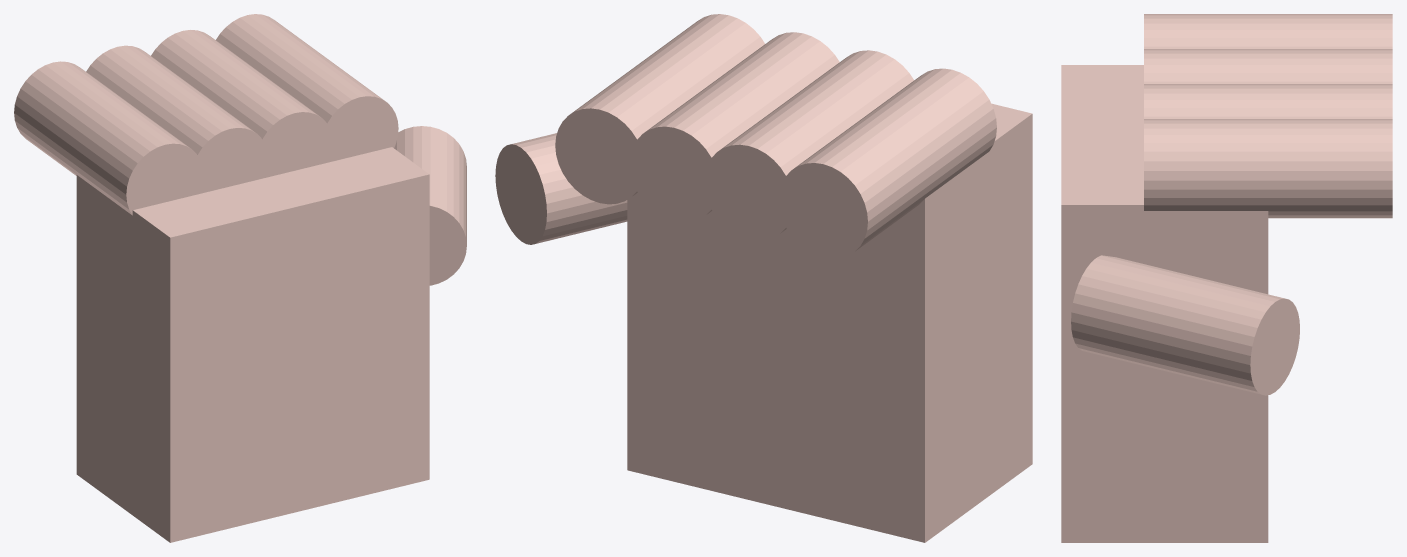
The model's file is letter_A.glb.
3 renders of one model, left to right at view 1: azimuth 30°, elevation 25°; view 2: azimuth 150°, elevation 25°; view 3: azimuth 270°, elevation 25°, orthographic. The views are drawn at different scales.
Visible parts, largest first — view 1: Cube, Cylinder, Cylinder.001, Cylinder.003, Cylinder.002, Cylinder.004; view 2: Cube, Cylinder, Cylinder.003, Cylinder.002, Cylinder.001, Cylinder.004; view 3: Cube, Cylinder.003, Cylinder.004, Cylinder, Cylinder.001, Cylinder.002.
Part boxes in pixels (left/top/right/bottom): Cube: left=76, top=147, right=429, bottom=542; Cylinder: left=14, top=61, right=203, bottom=215; Cylinder.001: left=86, top=45, right=268, bottom=194; Cylinder.003: left=216, top=14, right=398, bottom=163; Cylinder.002: left=151, top=30, right=333, bottom=177; Cylinder.004: left=394, top=126, right=466, bottom=285; Cube: left=627, top=103, right=1032, bottom=542; Cylinder: left=778, top=68, right=996, bottom=258; Cylinder.003: left=555, top=14, right=764, bottom=204; Cylinder.002: left=629, top=32, right=839, bottom=222; Cylinder.001: left=704, top=50, right=914, bottom=240; Cylinder.004: left=495, top=133, right=627, bottom=244; Cube: left=1061, top=65, right=1268, bottom=542; Cylinder.003: left=1144, top=119, right=1392, bottom=218; Cylinder.004: left=1071, top=255, right=1299, bottom=395; Cylinder: left=1144, top=14, right=1392, bottom=48; Cylinder.001: left=1144, top=49, right=1392, bottom=83; Cylinder.002: left=1144, top=84, right=1392, bottom=118.
Size of the model in its own units: 1.2 by 1.07 by 0.8.
